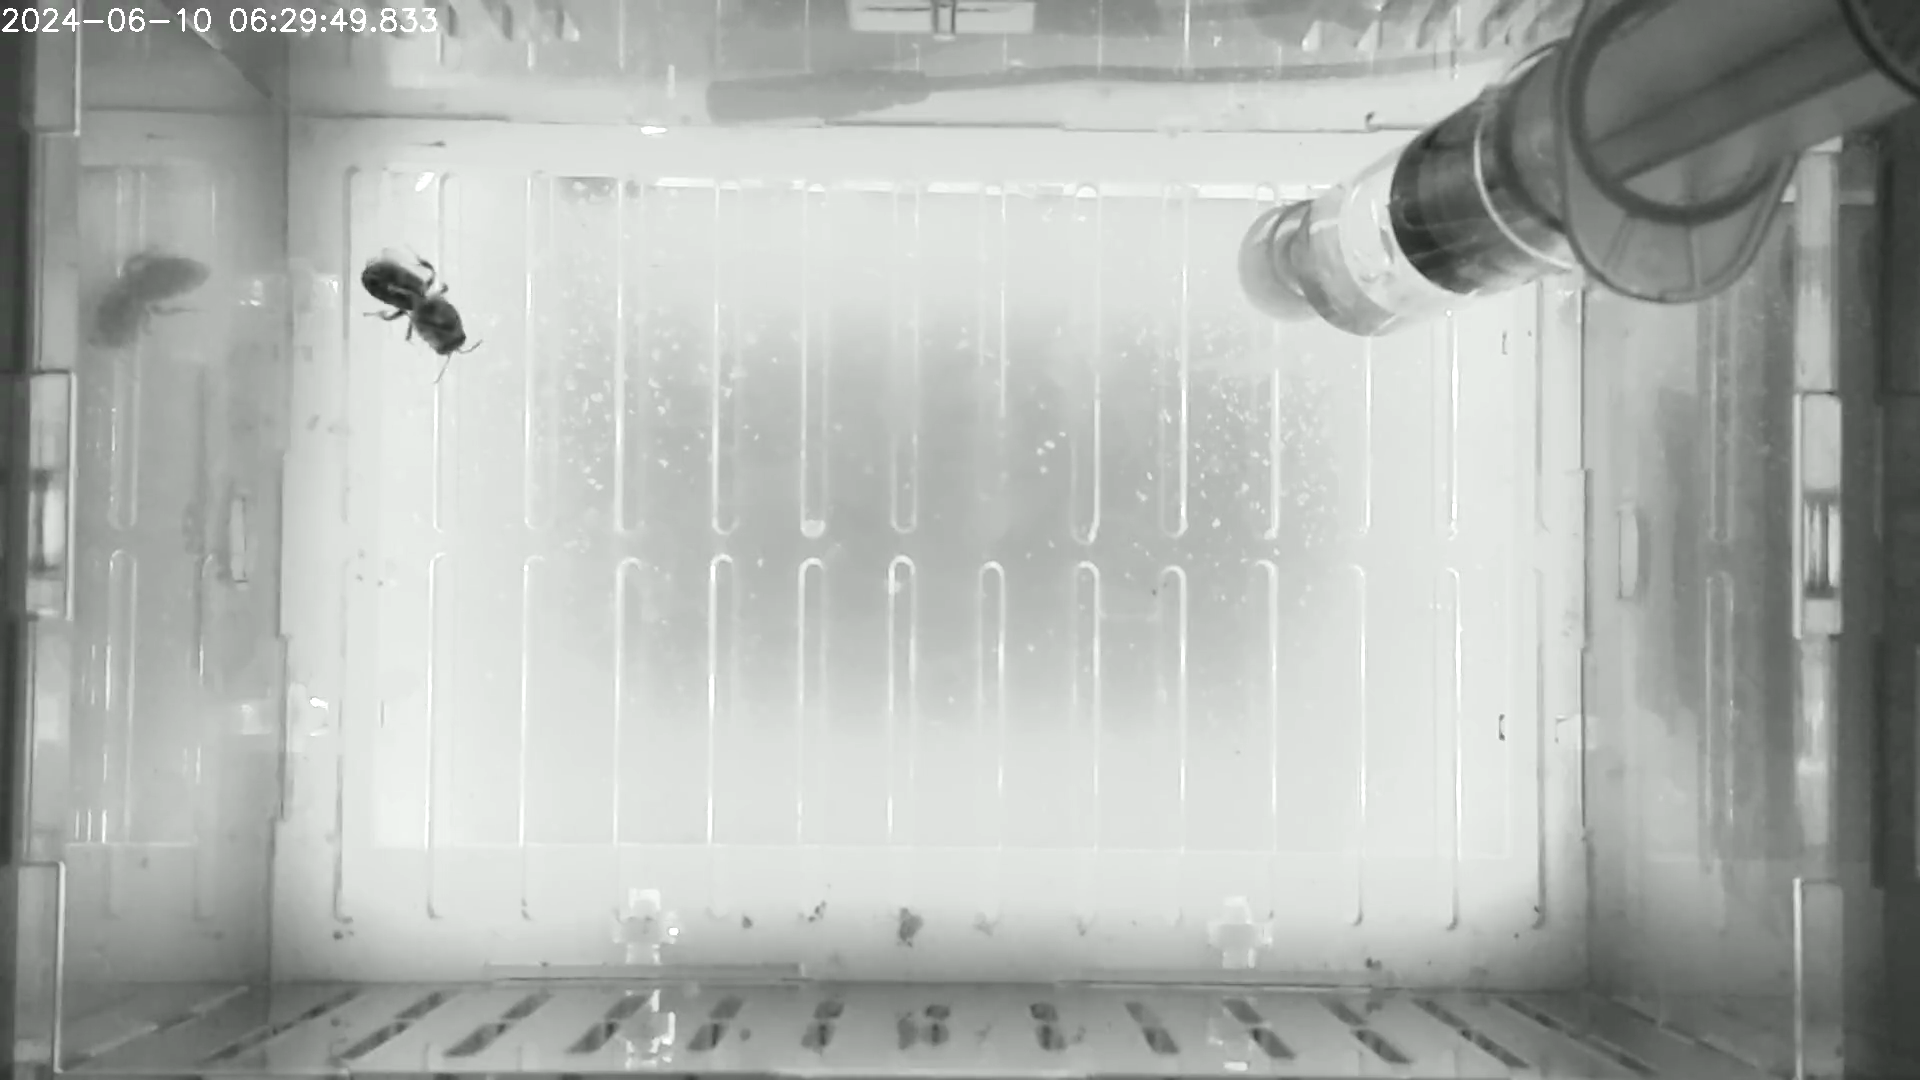bee: (345, 235, 487, 390)
feeder: (1284, 94, 1569, 343)
